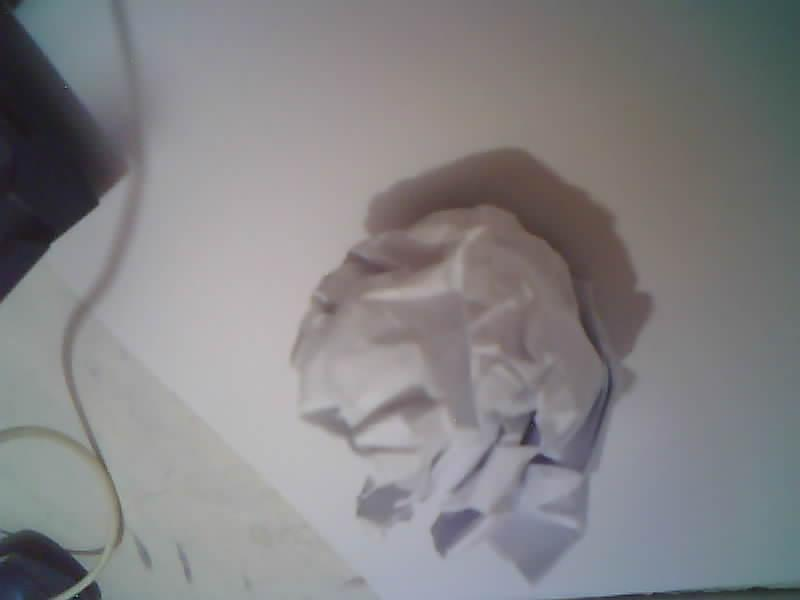biodegradable: (291, 205, 615, 582)
